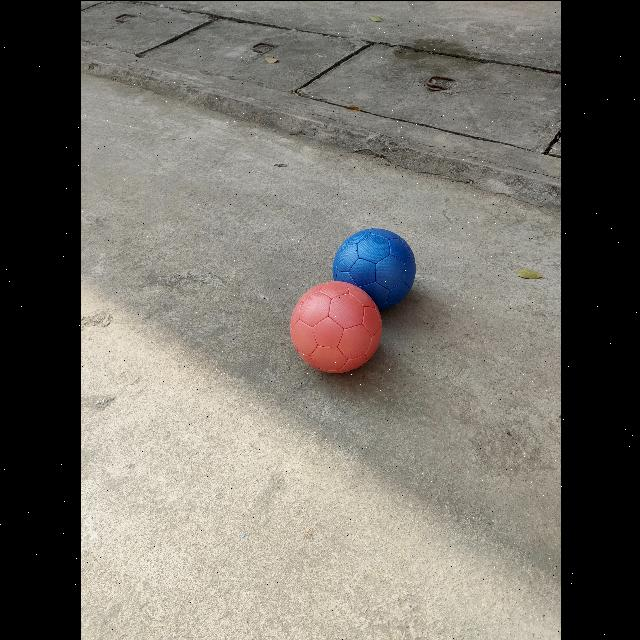B: (331, 228, 415, 309)
R: (290, 280, 381, 372)
